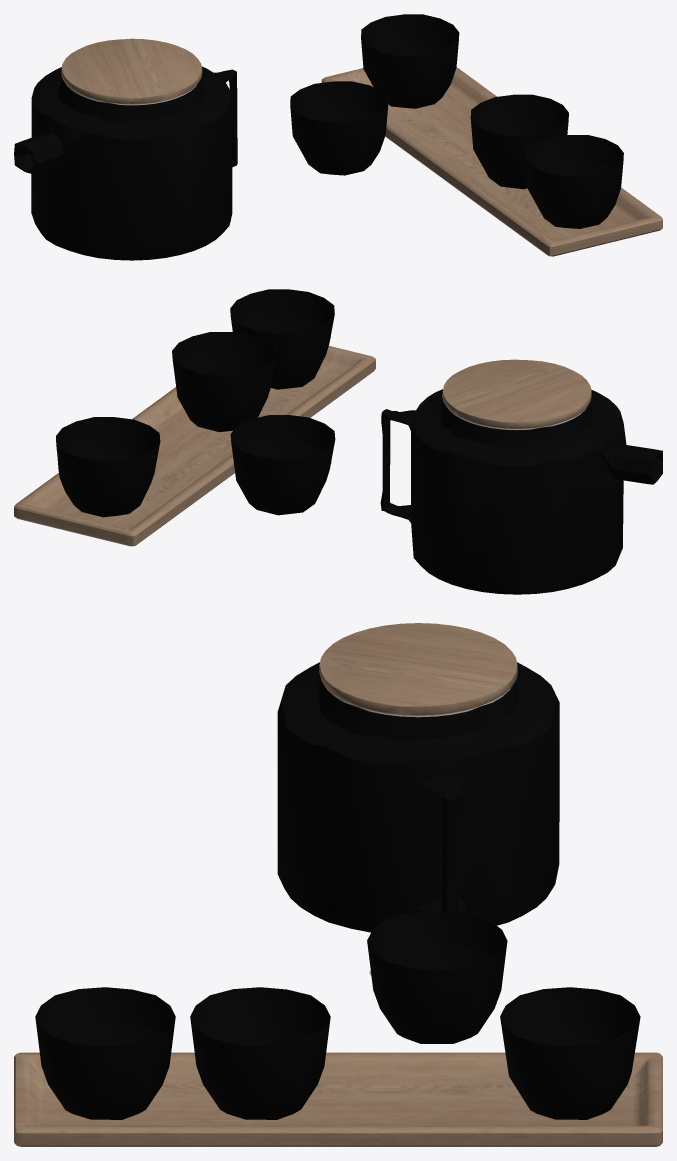
Rendered from wn9y8Kjw_423*328*120.glb.
3 renders of one model, top to bottom at view 1: azimuth 30°, elevation 25°; view 2: azimuth 150°, elevation 25°; view 3: azimuth 270°, elevation 25°, orthographic. The views are drawn at different scales.
Parts seen in each view (by area): view 1: SK_Glass_1, SK_Solid_2, SK_Glass_2; view 2: SK_Glass_1, SK_Solid_2, SK_Glass_2; view 3: SK_Glass_1, SK_Solid_2, SK_Glass_2.
Part boxes in pixels (bbox=[...]): SK_Glass_1: bbox=[14, 14, 623, 260]; SK_Solid_2: bbox=[61, 38, 662, 256]; SK_Glass_2: bbox=[301, 48, 613, 197]; SK_Glass_1: bbox=[56, 289, 662, 594]; SK_Solid_2: bbox=[14, 346, 591, 546]; SK_Glass_2: bbox=[78, 315, 331, 495]; SK_Glass_1: bbox=[35, 662, 640, 1119]; SK_Solid_2: bbox=[14, 623, 662, 1146]; SK_Glass_2: bbox=[52, 944, 633, 1078].
Size of the model in its own units: 0.4227 by 0.1203 by 0.3284.
4 materials, 4 textured.
